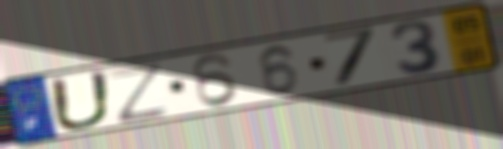3: (388, 19, 446, 77)
6: (190, 52, 241, 109), (256, 43, 303, 97)
7: (320, 24, 381, 90)
U: (45, 68, 116, 132)
Z: (104, 59, 173, 126)
